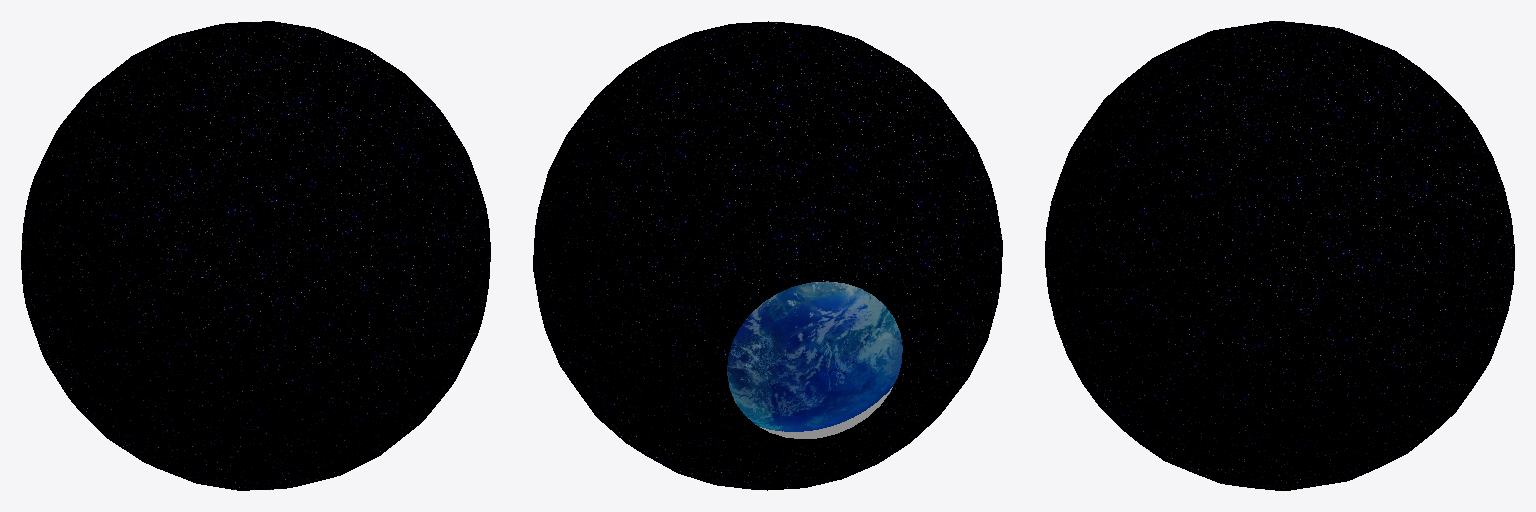
3 renders of one model, left to right at view 1: azimuth 30°, elevation 25°; view 2: azimuth 150°, elevation 25°; view 3: azimuth 270°, elevation 25°, orthographic.
Visible parts, largest first — view 1: polygon0; view 2: polygon0, polygon1, polygon2; view 3: polygon0.
Part boxes in pixels (bbox=[...]): polygon0: bbox=[21, 21, 490, 490]; polygon0: bbox=[533, 21, 1002, 490]; polygon1: bbox=[727, 281, 902, 431]; polygon2: bbox=[760, 387, 892, 438]; polygon0: bbox=[1045, 21, 1514, 490].
Size of the model in its own units: 28769 by 28659 by 28759.
Materials: 3 (2 with a texture image).